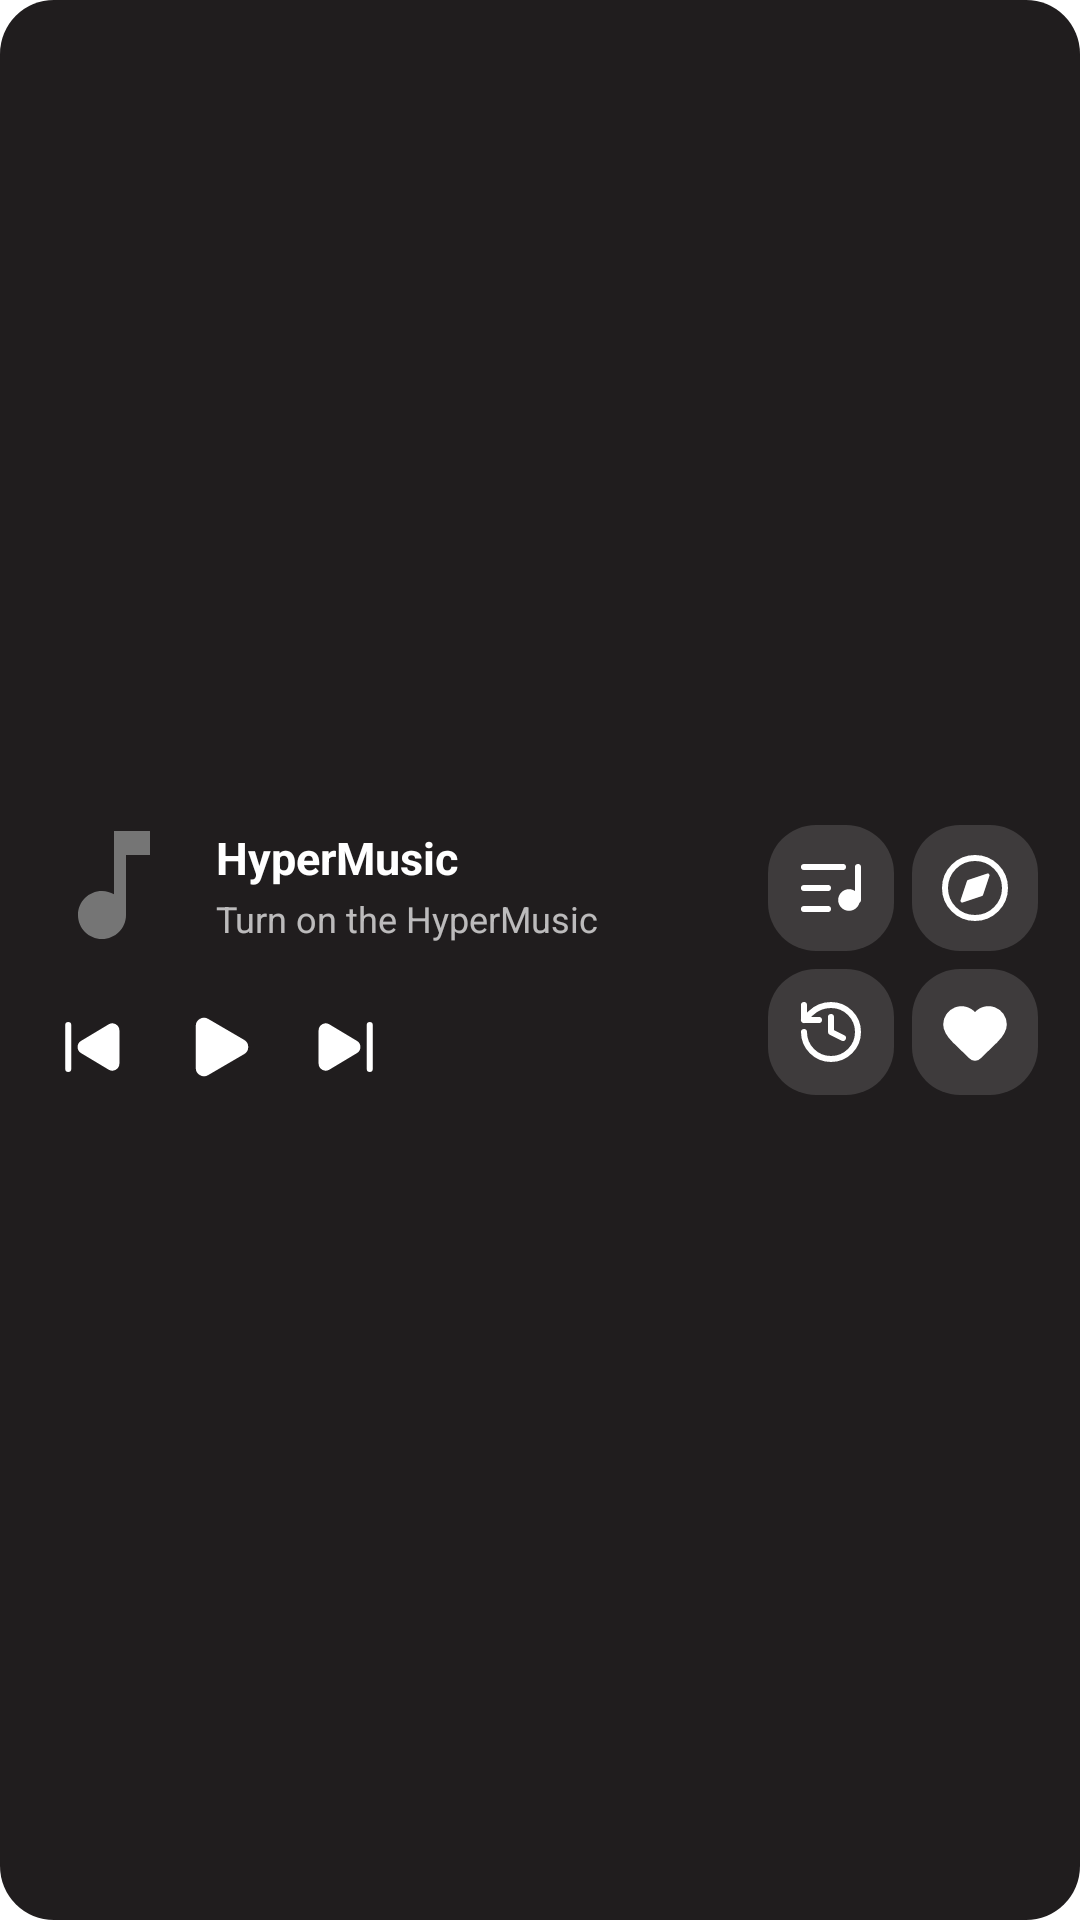

Screen size 1080px x 1920px. Icon name, then its box in pixels as BBox(x1, y1, x2, y2):
Explore: BBox(912, 825, 1038, 951)
History: BBox(768, 969, 894, 1095)
Liked Songs: BBox(912, 969, 1038, 1095)
Next track: BBox(318, 1022, 373, 1072)
Play or pause: BBox(195, 1017, 249, 1077)
Playlists: BBox(768, 825, 894, 951)
Previous track: BBox(65, 1022, 120, 1072)
Track artwork: BBox(78, 831, 150, 939)
